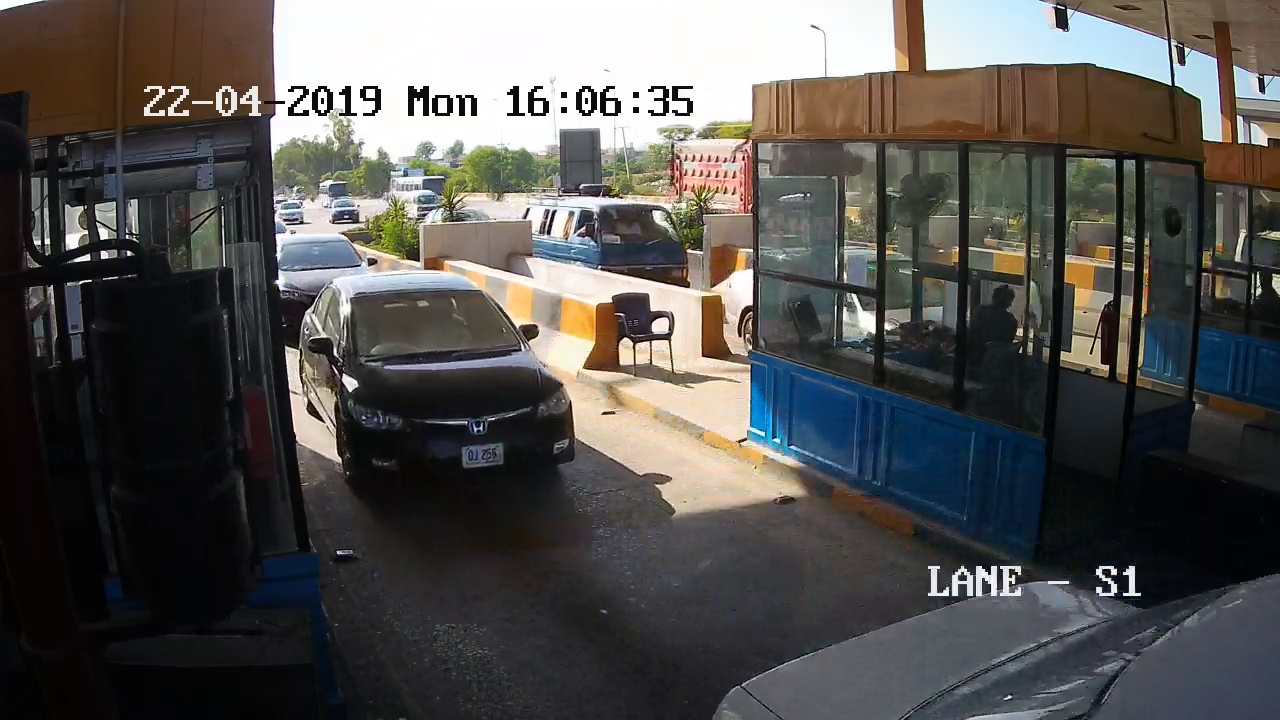Number Plate (Car): (460, 444, 507, 466)
